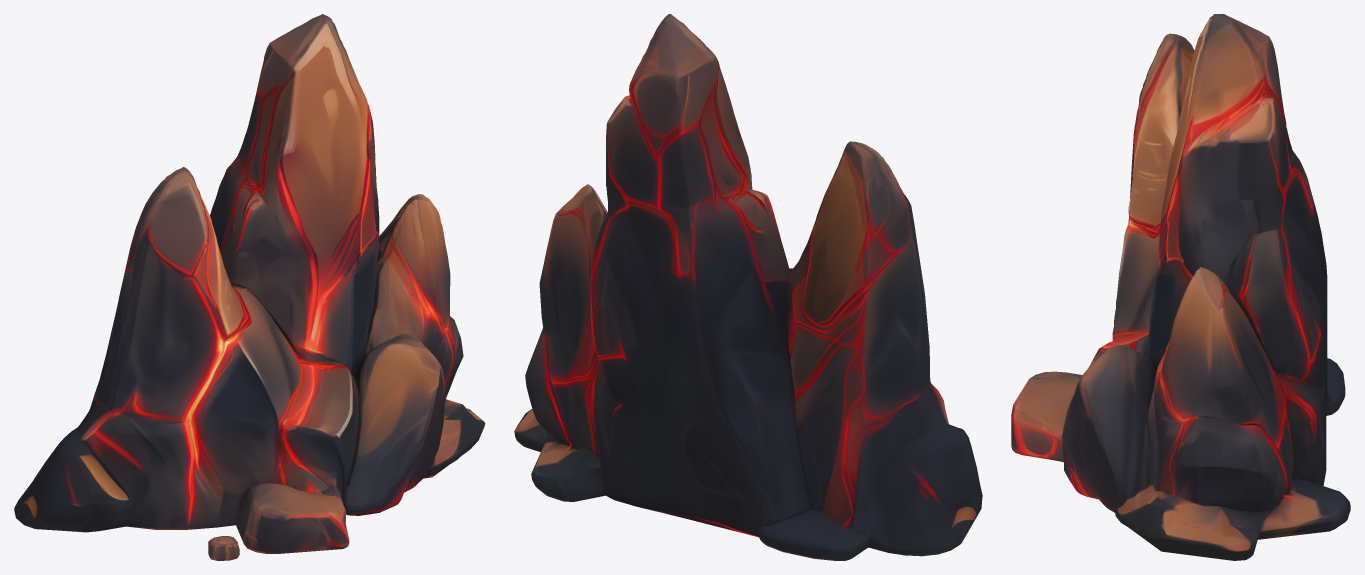
The model's file is Red_Rock.glb.
The picture shows the model from 3 angles, left to right: view 1: azimuth 30°, elevation 25°; view 2: azimuth 150°, elevation 25°; view 3: azimuth 270°, elevation 25°; orthographic projection. The views are drawn at different scales.
Visible parts, largest first — view 1: model; view 2: model; view 3: model.
Boxes of the visible parts, left/top/right/bottom form: model: left=14, top=14, right=485, bottom=560; model: left=514, top=14, right=982, bottom=560; model: left=1011, top=14, right=1350, bottom=560.
Size of the model in its own units: 1.9 by 1.84 by 1.19.
Materials: 1 (1 with a texture image).
